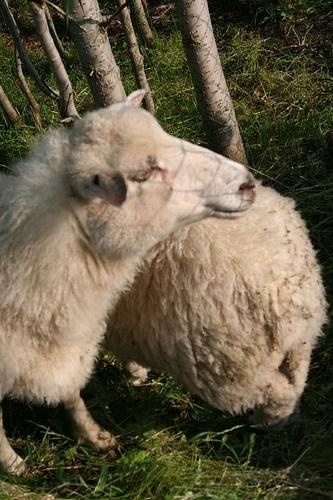sheep: (1, 89, 257, 478), (102, 181, 329, 432)
